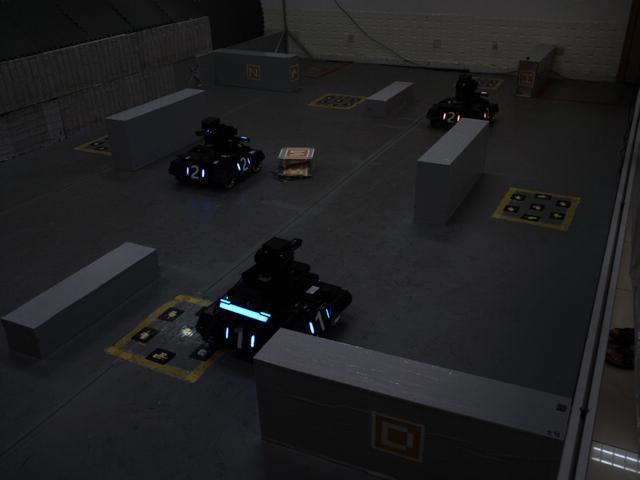armor: (218, 319, 259, 359), (303, 301, 338, 341), (181, 160, 208, 184), (438, 106, 462, 128), (231, 155, 257, 175)
